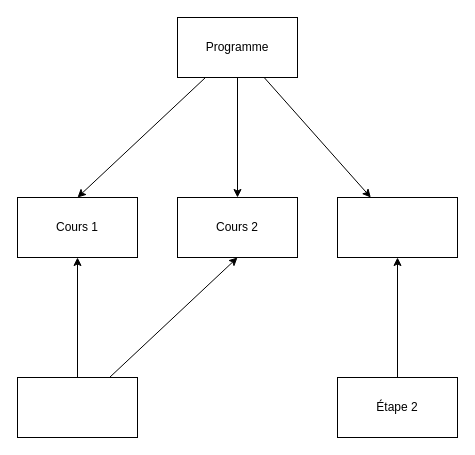
Image size: 475x455. Some labels were removed from this diagram. The centre of each missing label's shape, as x and y in pixels:
Cours 3: point 397,227
Étape 1: point 77,407
